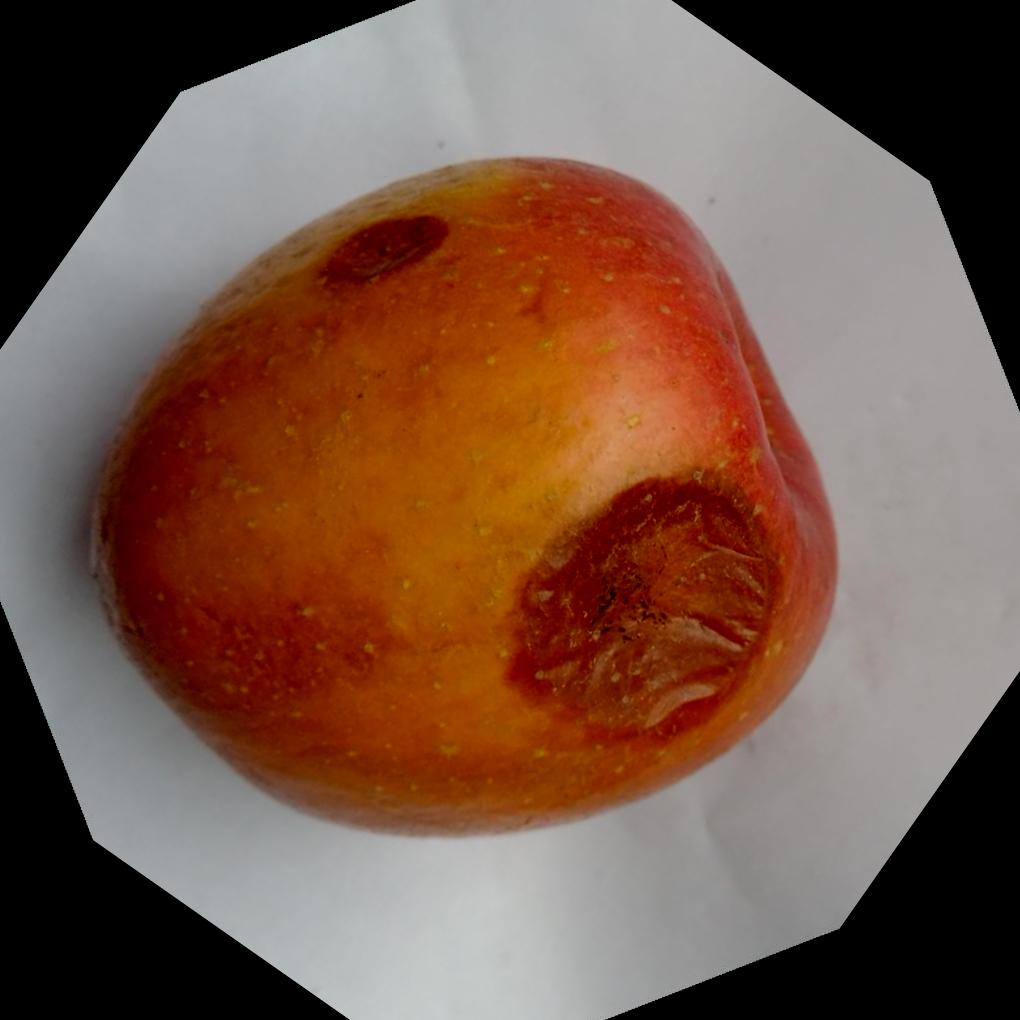FreshOrange: (82, 155, 839, 842)
